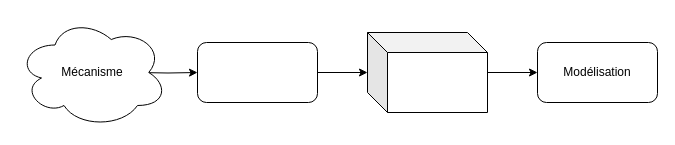
Image size: 675x145. Some labels were removed from this diagram. The shapes that lost their labels are listed below. From the top down, each one's box as (x1, y1, x2, y2) in pixels, then its label:
(196, 42, 318, 102): Squelette
(366, 32, 488, 112): Conception
